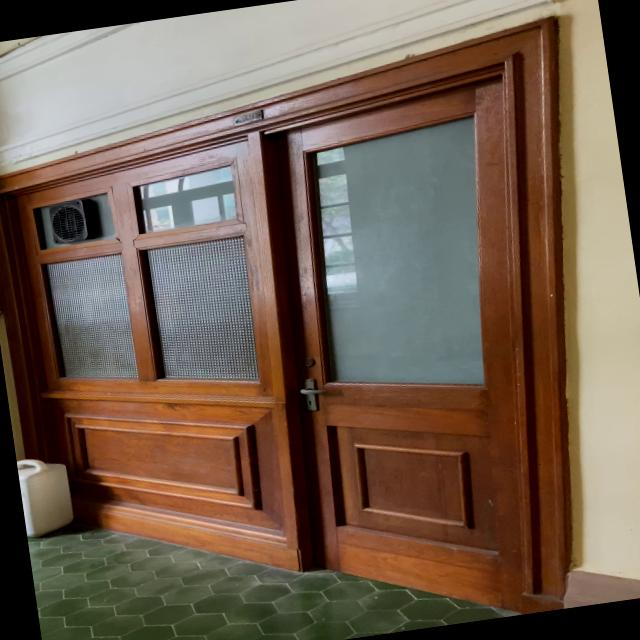room230: (231, 108, 266, 128)
